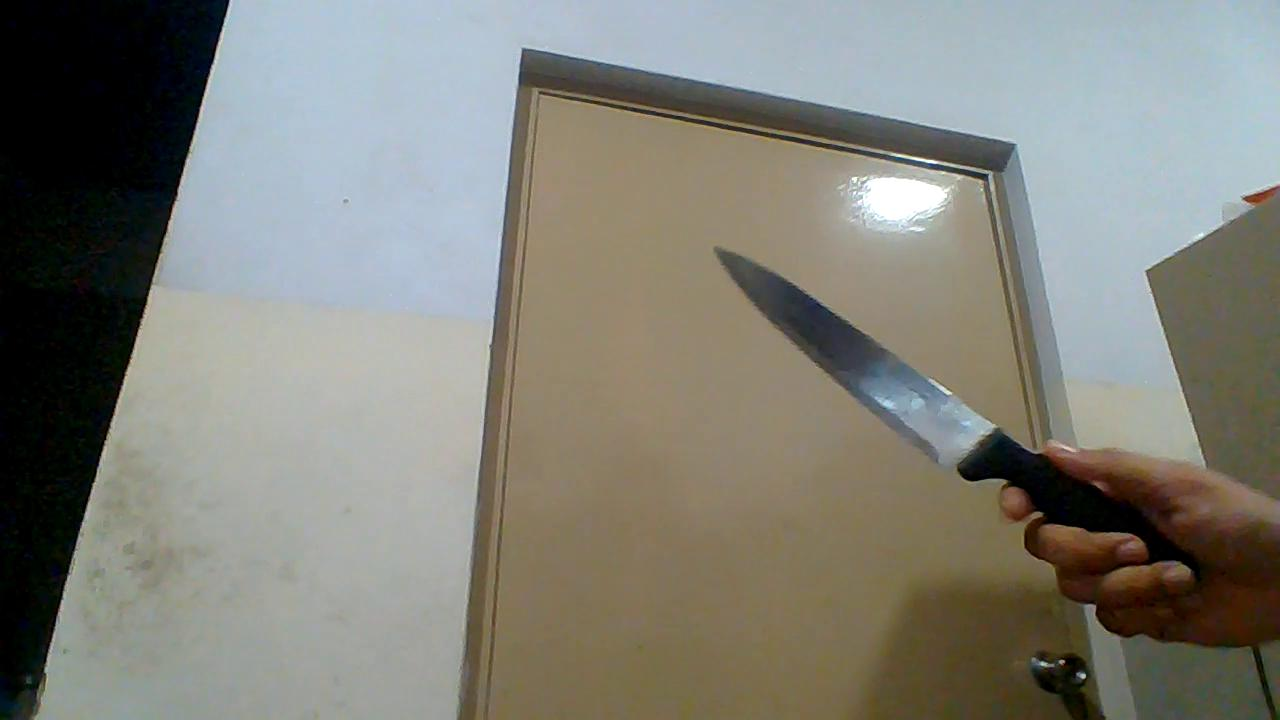weapon: (713, 246, 1173, 558)
